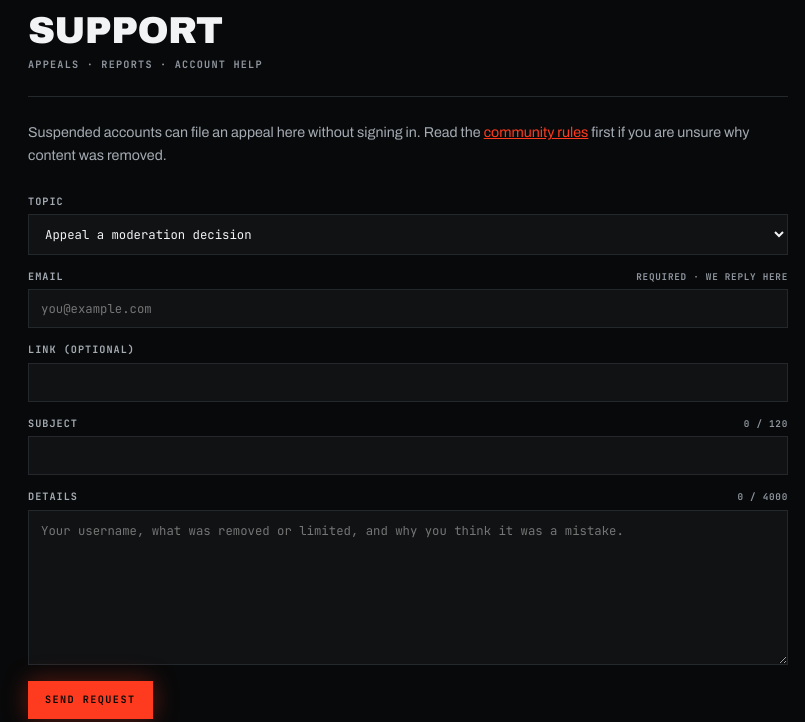
Scenario: SupportPage › requires an email when signed out and does not submit without one
Replace the text in the text box labelled "DETAILS" with "Please review my suspension." at (408, 587), box 28,510 -> 788,665
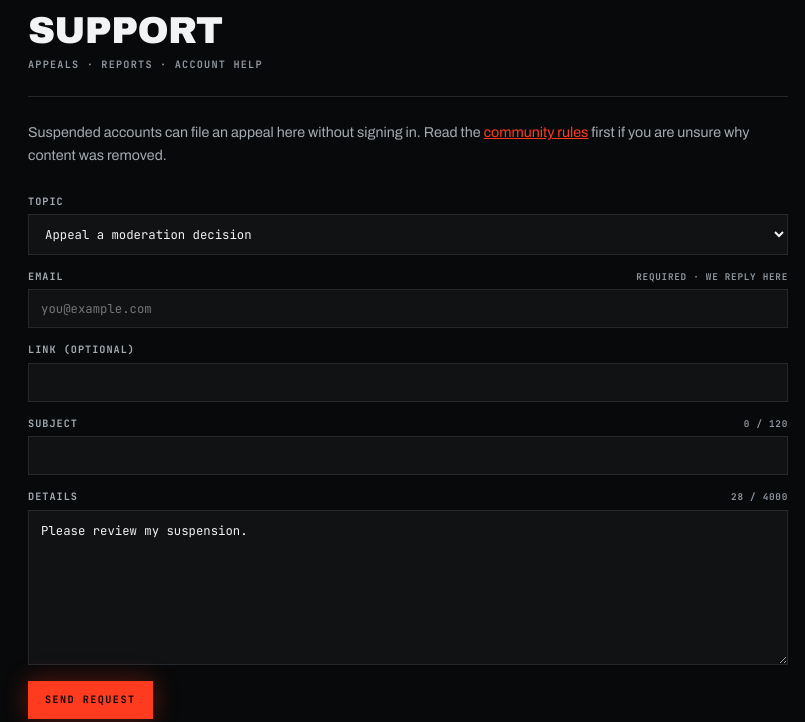
Click the button "SEND REQUEST".
click(90, 700)  # box 28,681 -> 152,719
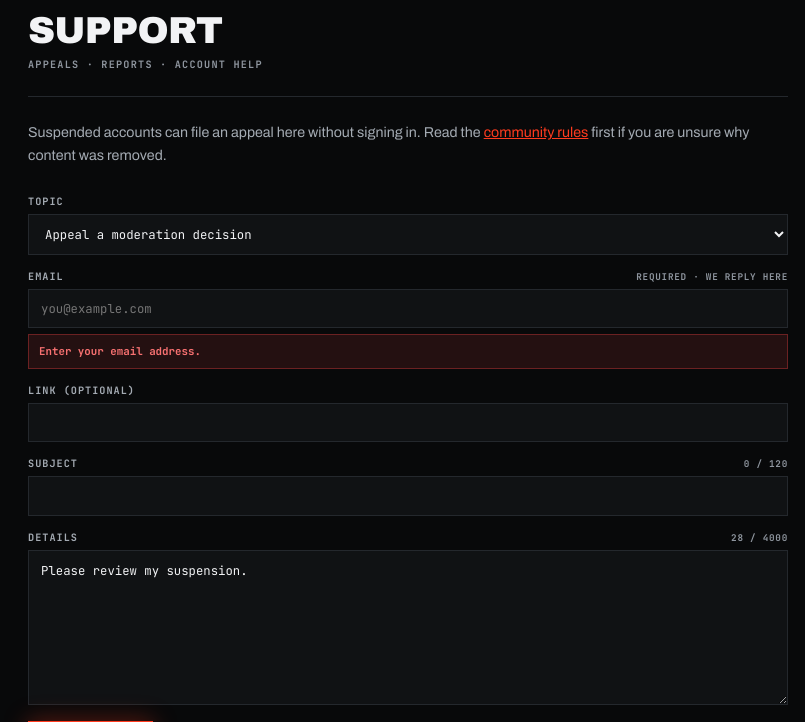
Expected: the message "Enter your email address." is shown, 28,334 -> 788,369
